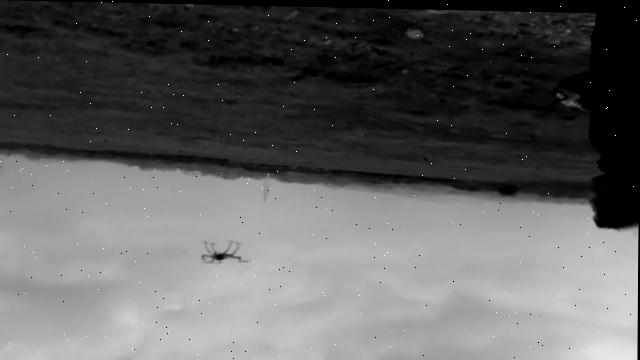drone: (201, 238, 252, 266)
